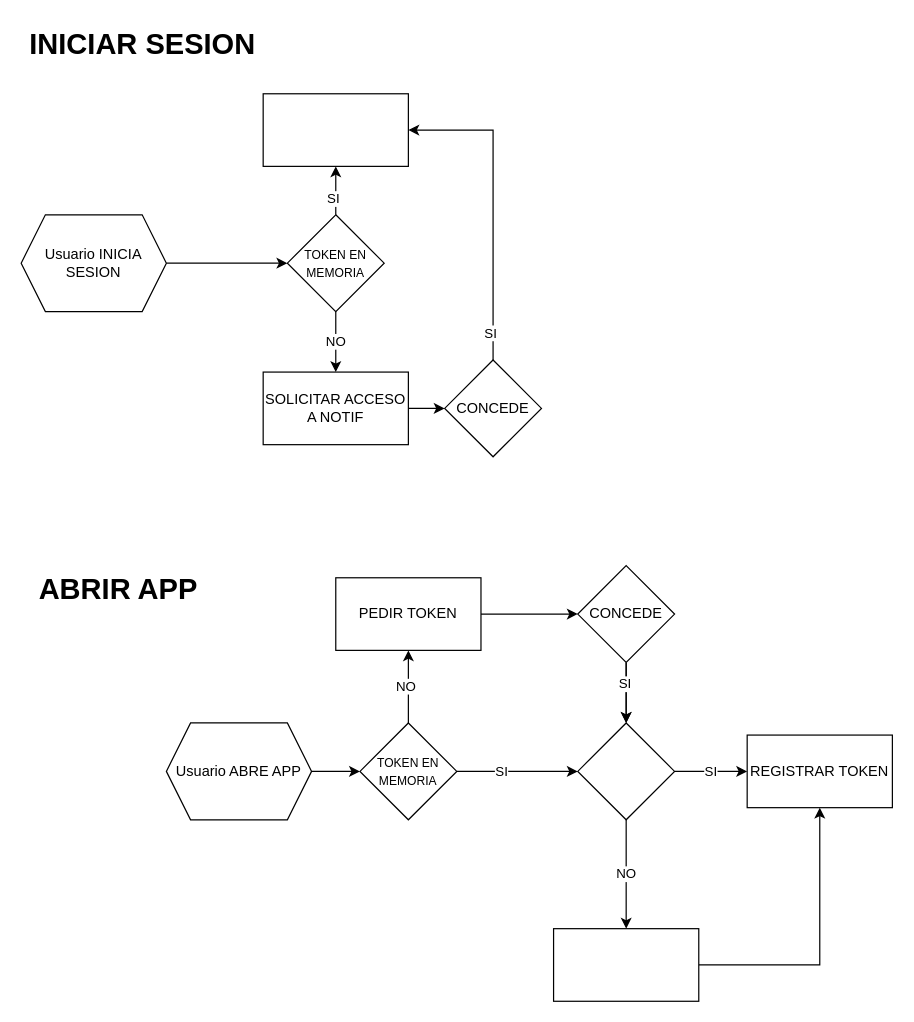
This 914x1022 diagram has some shape labels left out. The shapes that lost their labels are listed below. From the top down, each one's centre as x and y in pixels, then its label:
the point at 335,129: ENVIAR AL BACKEND
the point at 626,771: HAY USER
the point at 625,964: GUARDAR EN MEMORIA PARA CUANDO HAYA USER
